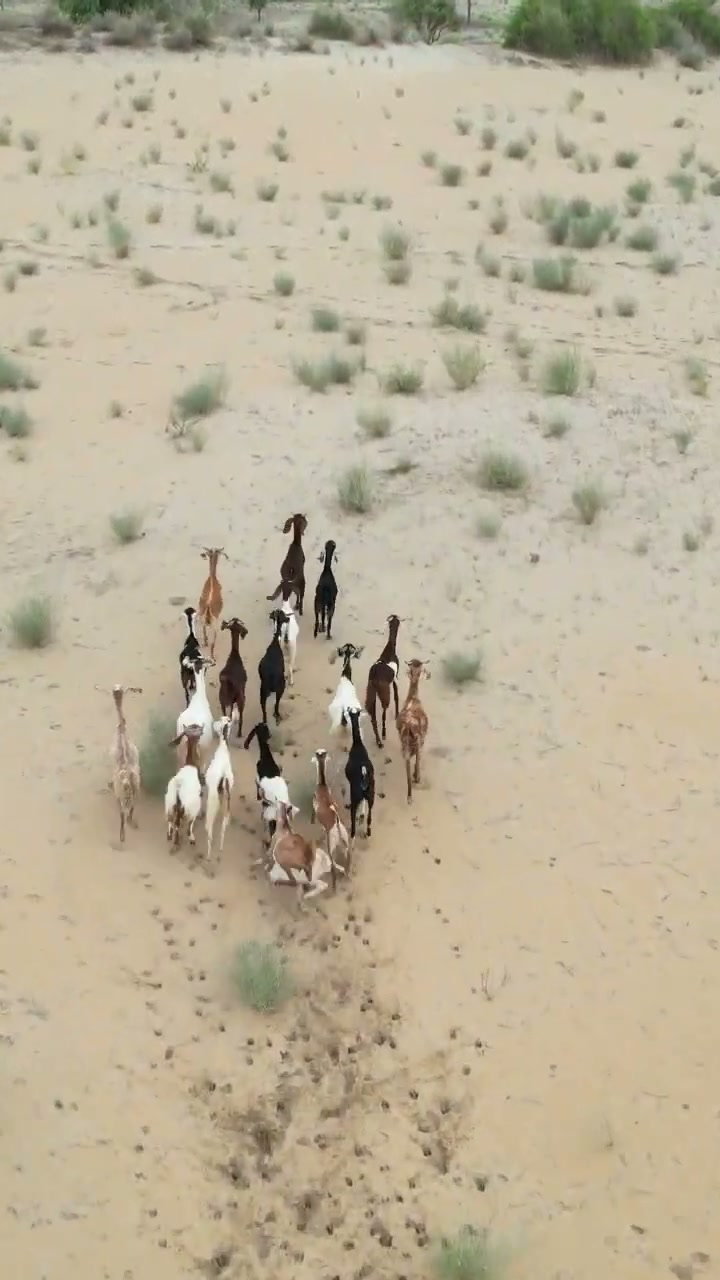animal_foot_print: (370, 807, 655, 1250), (97, 900, 318, 1271)
